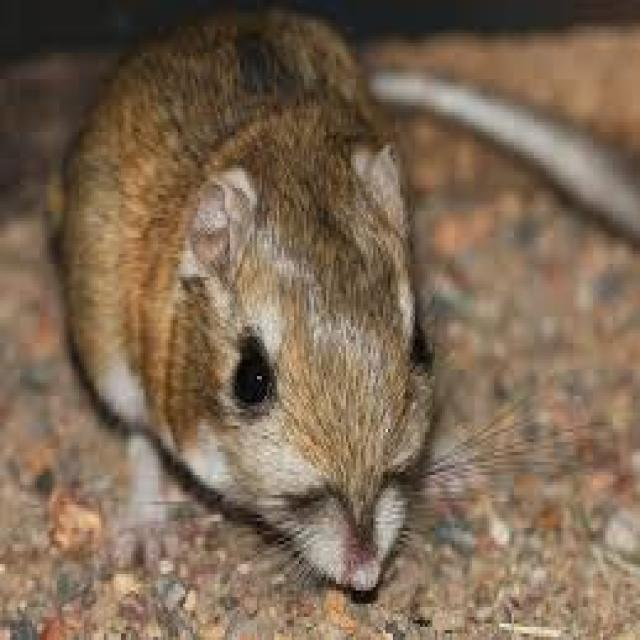rat: (44, 3, 522, 594)
